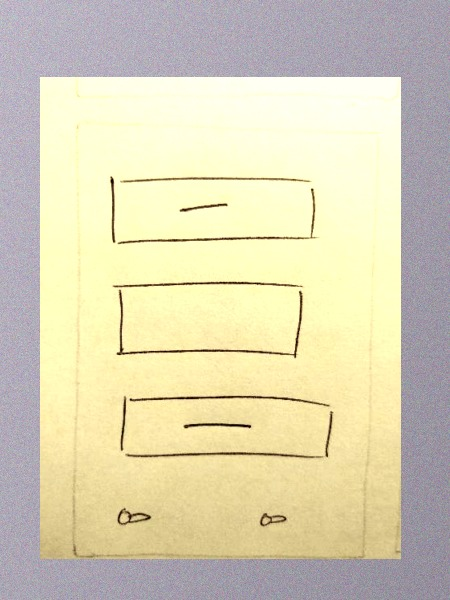button: (108, 387, 345, 468), (101, 166, 324, 251)
switch: (246, 504, 296, 535), (112, 497, 160, 527)
text_input: (104, 277, 313, 362)
